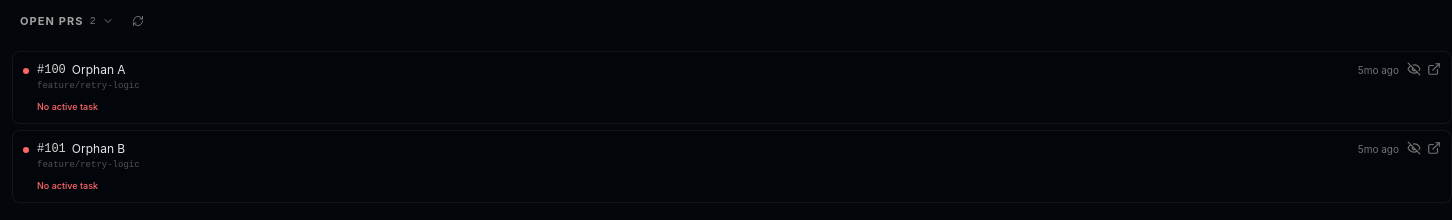
Test case: PRMonitorSection › clicking Dismiss hides only that PR row and leaves the other rendered
This screenshot has width=1452, height=220.
Expected: the text "Orphan A" is shown, 72,62 -> 126,78
Expected: the text "Orphan B" is shown, 72,141 -> 125,157
Click the button titled "Dismiss until refresh" in the row of "Orphan A" at point(1414, 69), box 1407,62 -> 1421,76
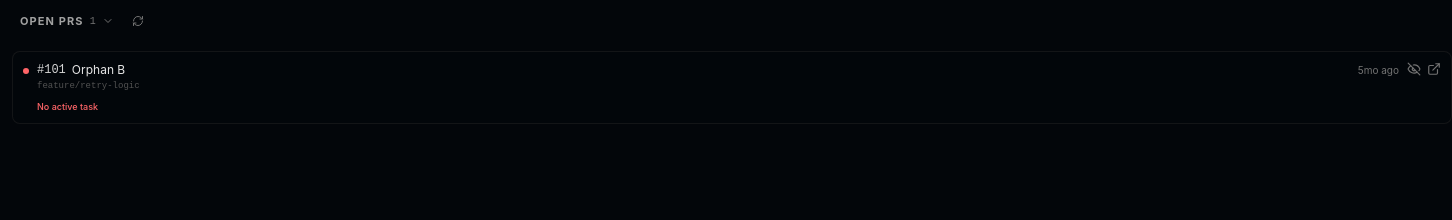
Expected: the text "Orphan B" is shown, 72,62 -> 125,78
Expected: the text "Orphan A" is gone
